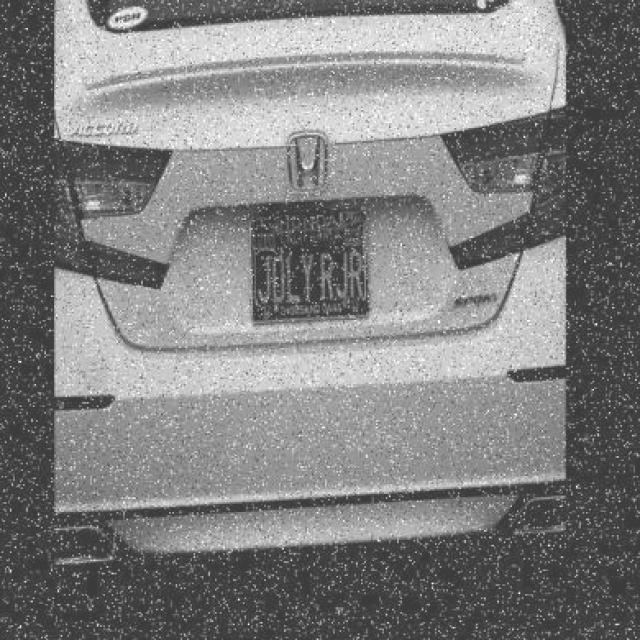licenseplate: (246, 194, 387, 358)
